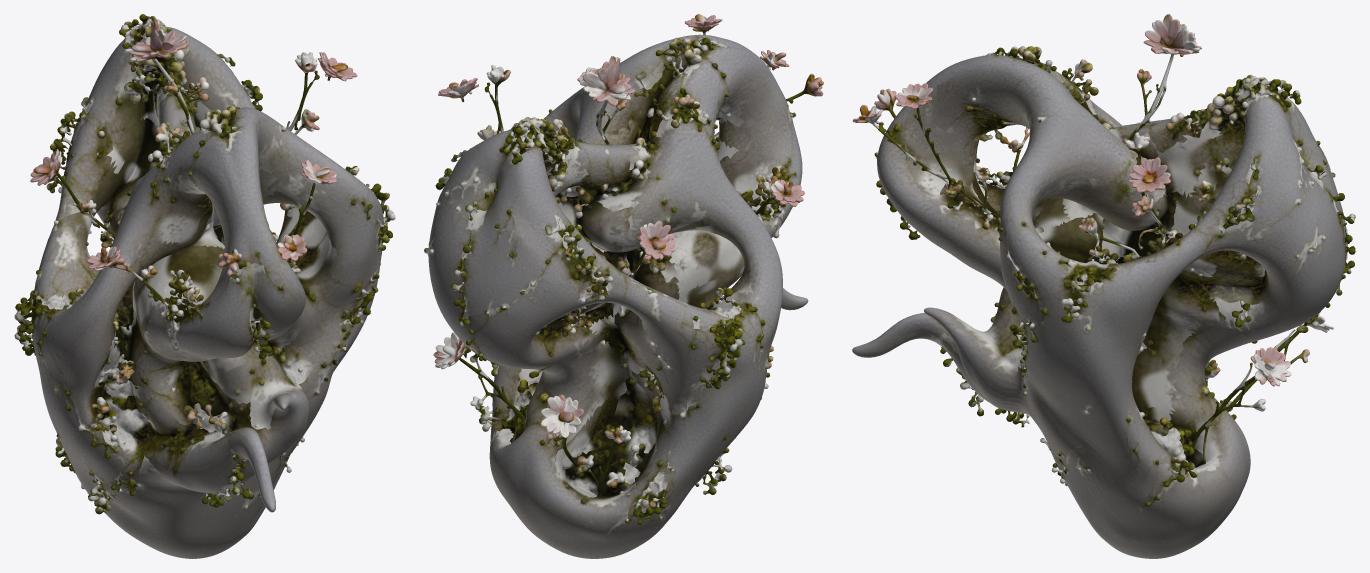
The model's file is muse-stage-3.glb.
The picture shows the model from 3 angles, left to right: view 1: azimuth 30°, elevation 25°; view 2: azimuth 150°, elevation 25°; view 3: azimuth 270°, elevation 25°; orthographic projection. The views are drawn at different scales.
Parts seen in each view (by area): view 1: tripo_node_99b8e60f-d361-40f5-b326-4cb3765e94cf; view 2: tripo_node_99b8e60f-d361-40f5-b326-4cb3765e94cf; view 3: tripo_node_99b8e60f-d361-40f5-b326-4cb3765e94cf.
Boxes of the visible parts, x1=… form: tripo_node_99b8e60f-d361-40f5-b326-4cb3765e94cf: x1=14, y1=14, x2=395, y2=558; tripo_node_99b8e60f-d361-40f5-b326-4cb3765e94cf: x1=424, y1=14, x2=823, y2=558; tripo_node_99b8e60f-d361-40f5-b326-4cb3765e94cf: x1=852, y1=14, x2=1355, y2=558.
Bounding box in the file's own units: 0.6293 × 0.9796 × 0.8546.
1 material, 1 textured.
